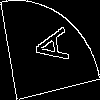A: (25, 24, 69, 69)
